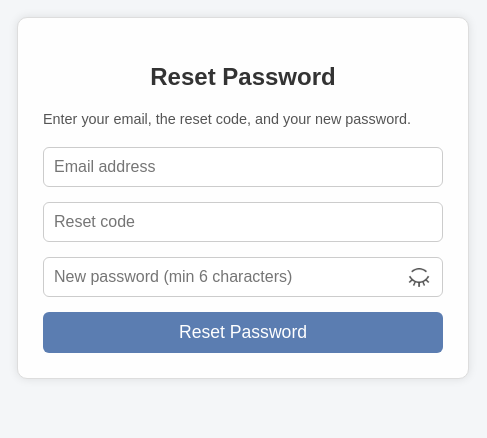
ResetPasswordPage › shows plain text error from server
This screenshot has width=487, height=438.
Type "test@example.com" into the field with placeholder "Email address" at (243, 167), box x1=43 y1=147 x2=443 y2=187
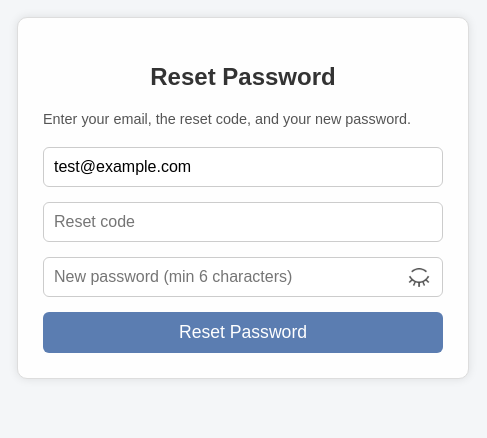
Type "123456" into the field with placeholder "Reset code" at (243, 222), box x1=43 y1=202 x2=443 y2=242
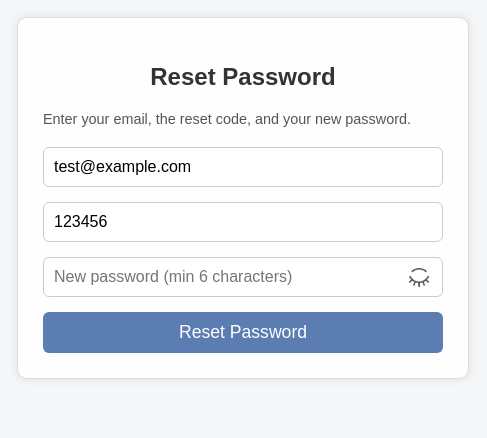
Type "password123" into the password field with placeholder "New password (min 6 characters)" at (243, 277), box x1=43 y1=257 x2=443 y2=297
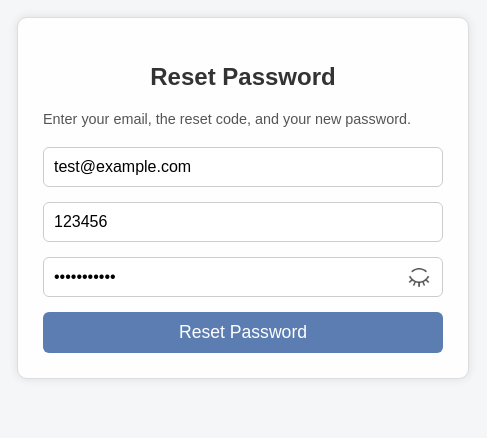
Click the button "Reset Password" at (243, 332), box x1=43 y1=312 x2=443 y2=353
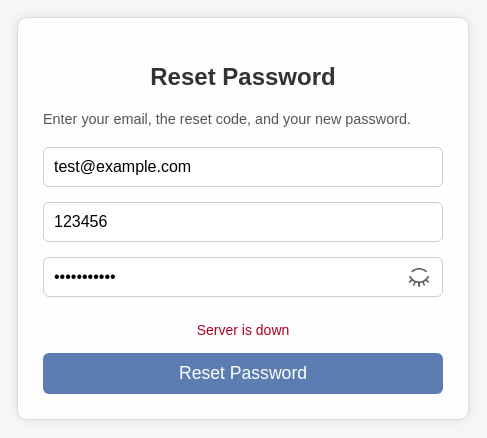
Expected: the text "Server is down" is shown, x1=197 y1=322 x2=289 y2=338
